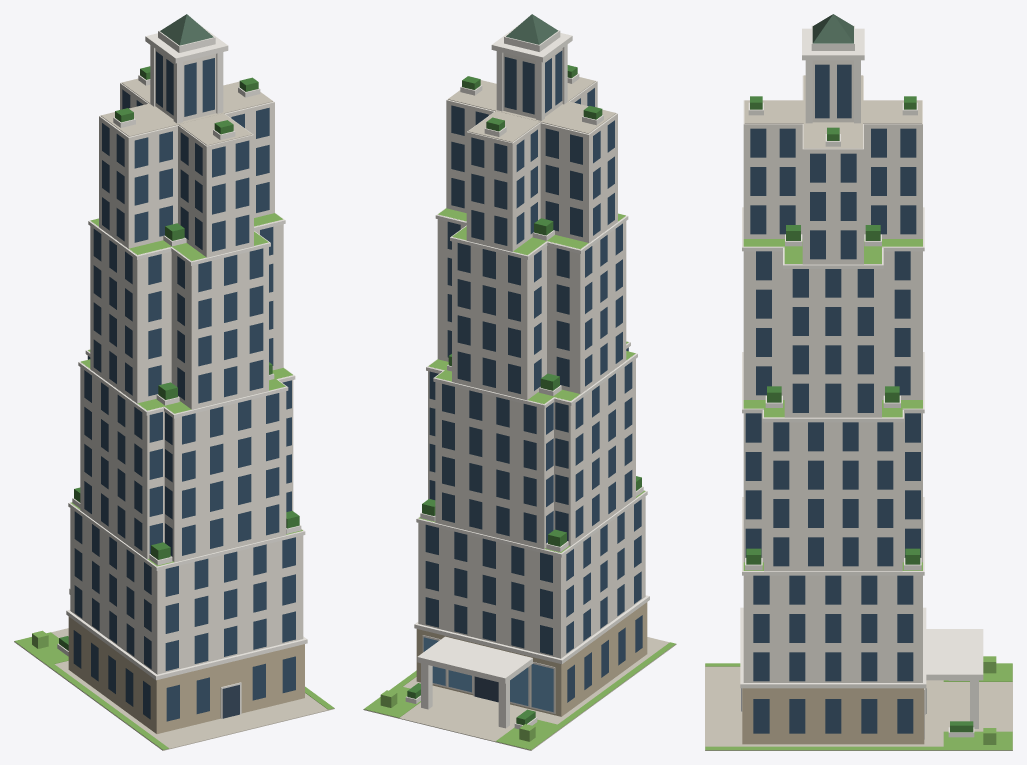
3 views of the same model, side by side, from view 1: azimuth 30°, elevation 25°; view 2: azimuth 150°, elevation 25°; view 3: azimuth 270°, elevation 25° (orthographic). The views are drawn at different scales.
Parts seen in each view (by area): view 1: tower (×7), lobby_stone, plaza, roof_terrace (×2), ledge (×4), lawn (×2), lobby_cornice, window_glass (×2), lantern, lantern_cornice, lantern_roof, lantern_pier (+1 smaller); view 2: tower (×7), plaza, lobby_stone, roof_terrace (×2), canopy, ledge (×4), lawn (×3), storefront (×2), lobby_cornice, window_glass (×2), lantern, canopy_pier (×2) (+3 smaller); view 3: tower (×7), plaza, lobby_stone, window_glass (×7), roof_terrace (×2), ledge (×4), canopy, lawn (×2), lobby_cornice, lantern, lantern_cornice, lantern_roof.
Part boxes in pixels (x1,y1,x2,y2): tower (×7): (70, 82, 303, 674); lobby_stone: (68, 616, 304, 733); plaza: (14, 628, 334, 750); roof_terrace (×2): (100, 78, 272, 145); ledge (×4): (68, 213, 305, 570); lawn (×2): (14, 632, 168, 749); lobby_cornice: (66, 609, 307, 680); window_glass (×2): (184, 58, 214, 116); lantern: (155, 49, 216, 121); lantern_cornice: (145, 24, 228, 63); lantern_roof: (160, 14, 213, 45); lantern_pier: (173, 62, 182, 123); tower (×7): (418, 81, 645, 658); plaza: (363, 637, 676, 750); lobby_stone: (416, 602, 647, 716); roof_terrace (×2): (448, 77, 616, 142); canopy: (417, 636, 532, 683); ledge (×4): (416, 208, 647, 557); lawn (×3): (364, 642, 675, 749); storefront (×2): (510, 664, 553, 712); lobby_cornice: (414, 595, 649, 664); window_glass (×2): (504, 57, 534, 114); lantern: (503, 48, 562, 118); canopy_pier (×2): (421, 663, 509, 728); tower (×7): (743, 75, 922, 682); plaza: (705, 664, 1012, 750); lobby_stone: (742, 688, 924, 744); window_glass (×7): (753, 64, 913, 733); roof_terrace (×2): (744, 75, 921, 148); ledge (×4): (742, 207, 924, 575); canopy: (926, 629, 983, 680); lawn (×2): (705, 731, 1012, 750); lobby_cornice: (740, 607, 926, 688); lantern: (812, 60, 853, 122); lantern_cornice: (802, 28, 864, 60); lantern_roof: (812, 14, 853, 43).
Size of the model in its own units: 16 by 59.65 by 24.
